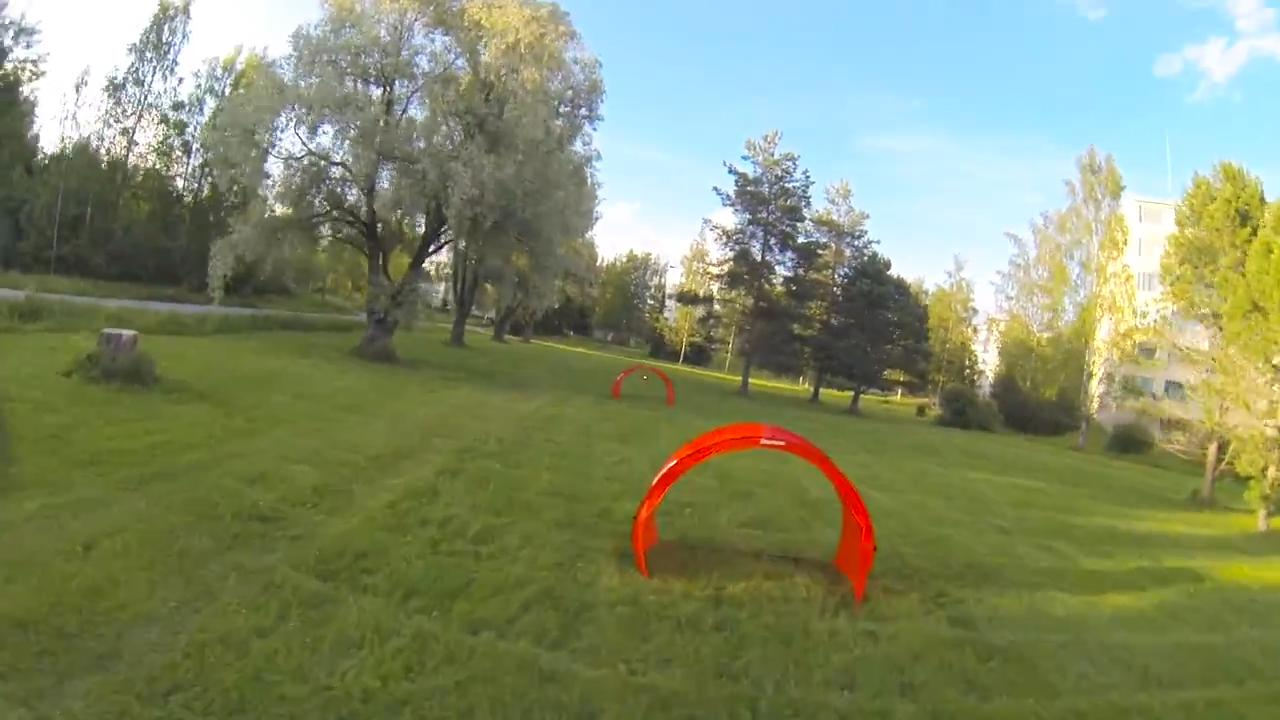gate: (623, 413, 874, 606)
